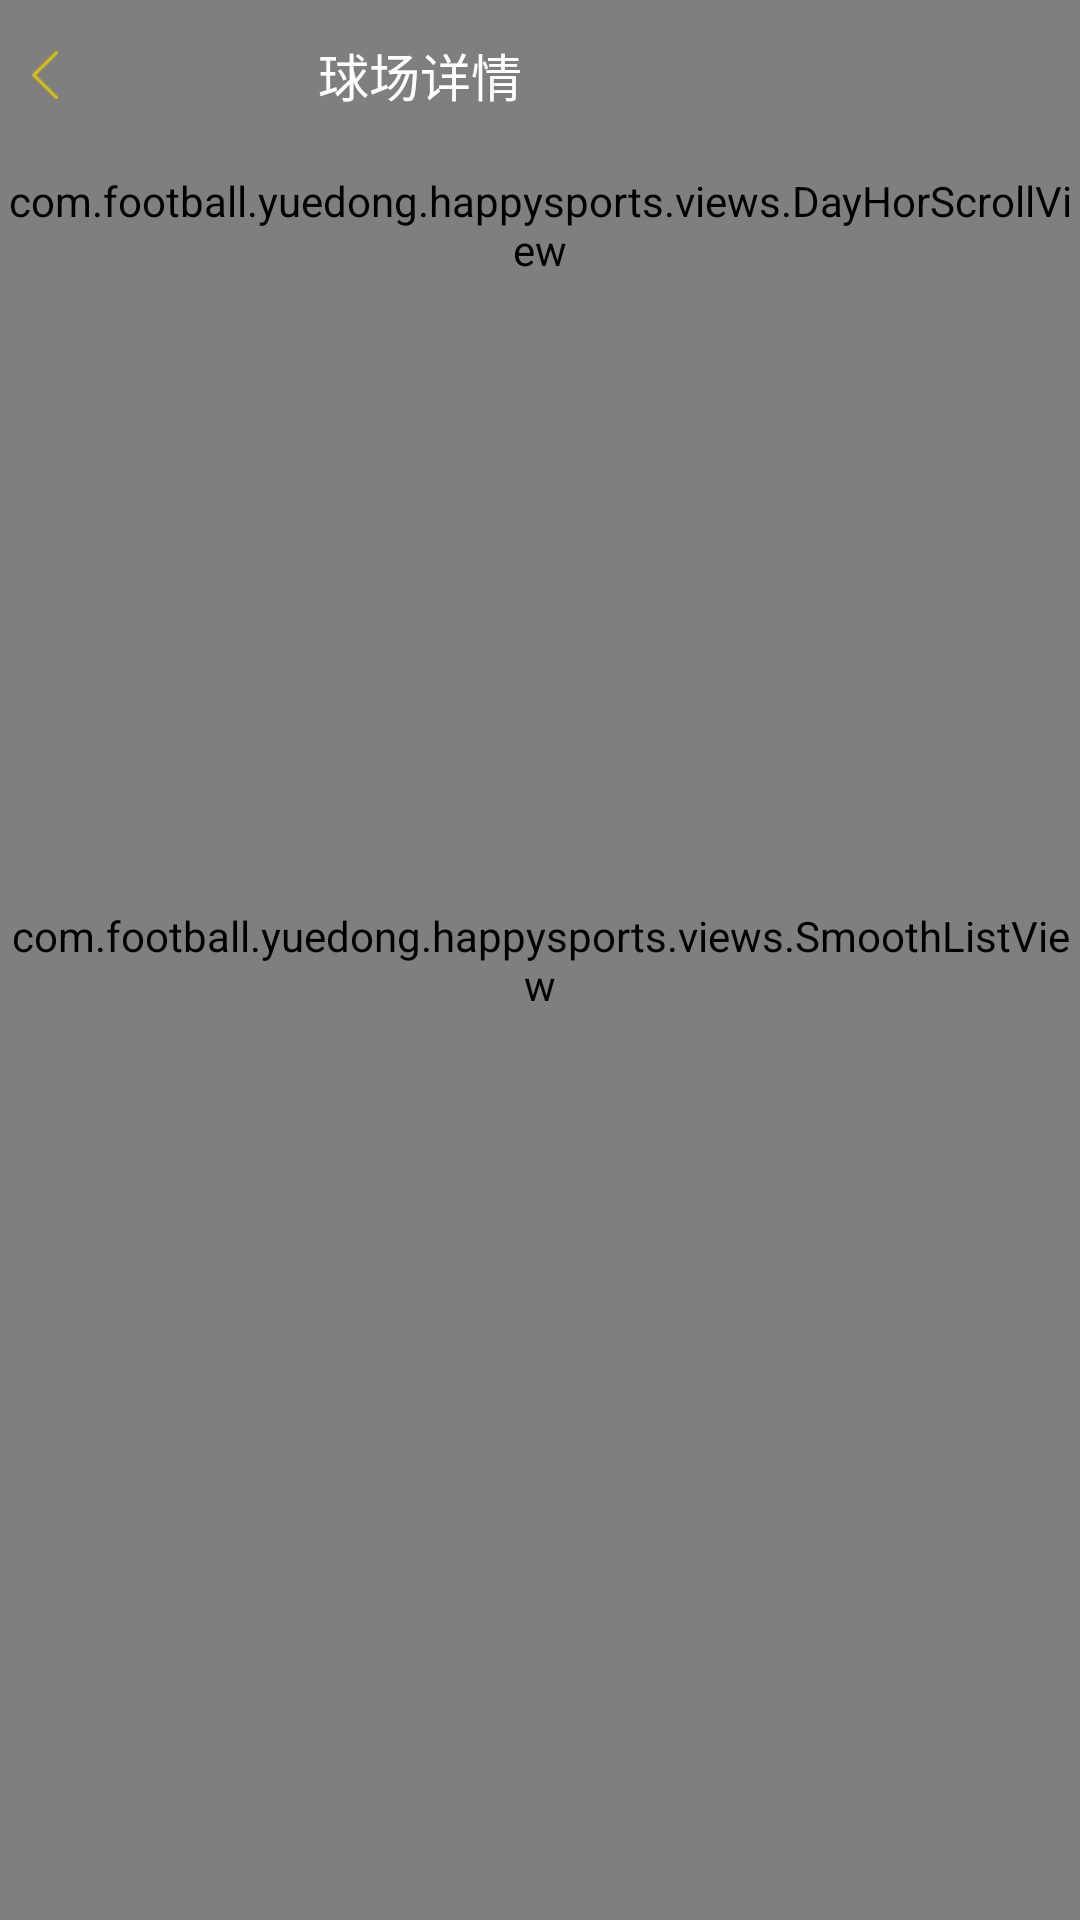

Icon bounding boxes for this 1080*1920 phone screenshot, format (x1, y1, x2, y2):
back: (32, 51, 58, 99)
